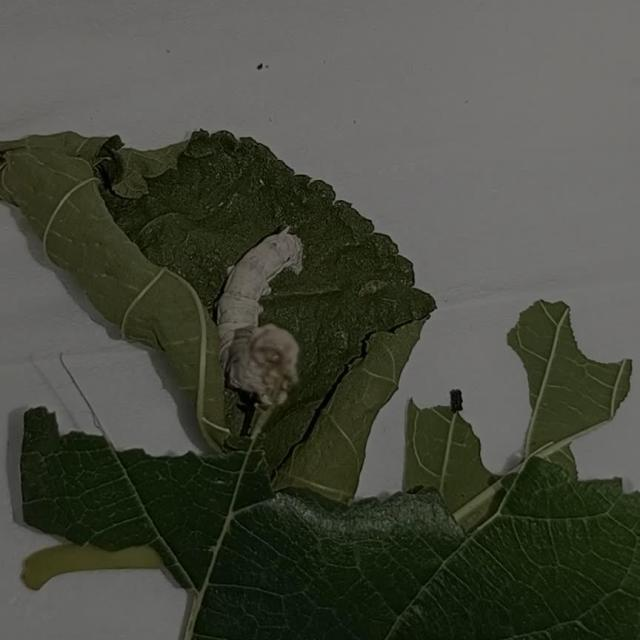Healthy: (204, 213, 321, 414)
